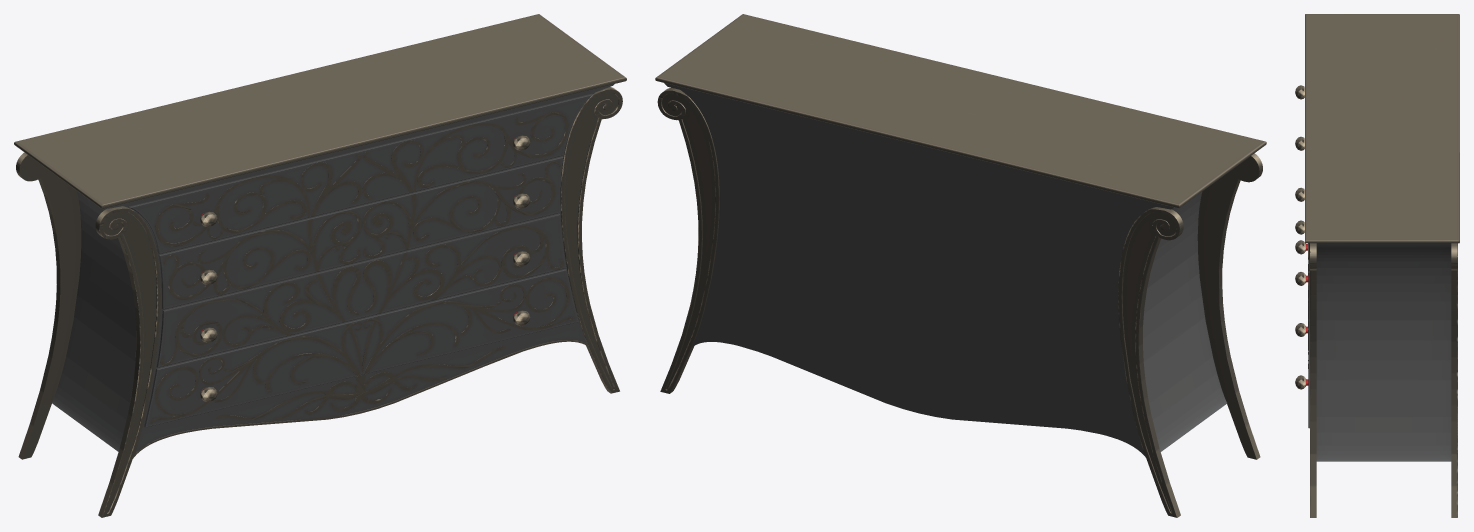
File: raw_model.obj
3 views of the same model, side by side, from view 1: azimuth 30°, elevation 25°; view 2: azimuth 150°, elevation 25°; view 3: azimuth 270°, elevation 25° (orthographic). The views are drawn at different scales.
Parts seen in each view (by area): view 1: solid_001, solid_002; view 2: solid_001, solid_002; view 3: solid_002, solid_001.
Boxes of the visible parts, box(x1,y1,x2,y2) form: solid_001: box(52, 84, 614, 453); solid_002: box(14, 14, 626, 517); solid_001: box(664, 83, 1227, 457); solid_002: box(655, 14, 1266, 517); solid_002: box(1295, 14, 1459, 517); solid_001: box(1308, 243, 1451, 461).
Bounding box in the file's own units: 1.44 × 0.8289 × 0.4432.
Materials: 1 (1 with a texture image).
